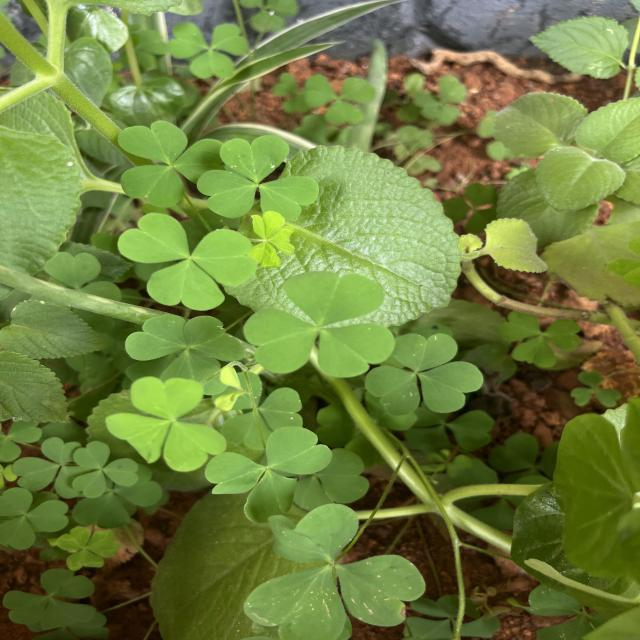Oxalis corniculata: (241, 501, 427, 640), (242, 270, 396, 378), (117, 211, 259, 312), (204, 424, 334, 524), (105, 375, 228, 473), (196, 134, 321, 222), (364, 331, 484, 417), (117, 120, 225, 208), (124, 312, 245, 376), (2, 568, 98, 632), (497, 308, 581, 368), (168, 20, 248, 80), (0, 486, 70, 550), (71, 440, 140, 500), (56, 525, 121, 571)
